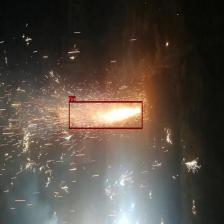fire: (68, 101, 142, 129)
